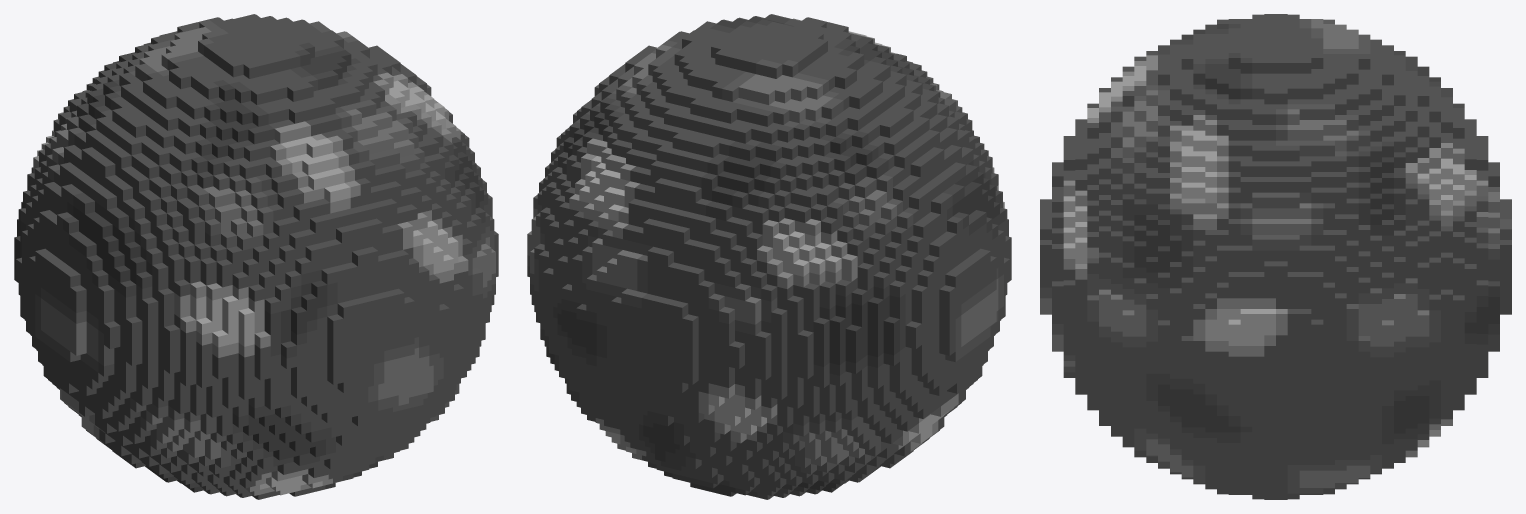
The model's file is stone.obj.
3 views of the same model, side by side, from view 1: azimuth 30°, elevation 25°; view 2: azimuth 150°, elevation 25°; view 3: azimuth 270°, elevation 25° (orthographic).
Size of the model in its own units: 4 by 4 by 4.
1 material, 1 textured.
